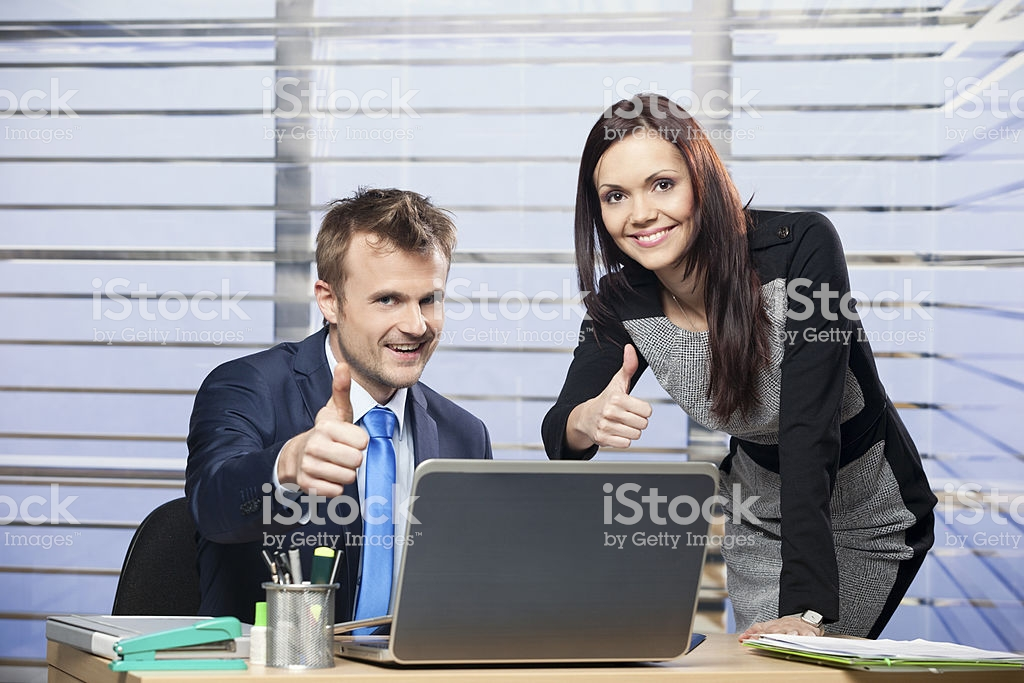thumbsup: (295, 362, 371, 500), (588, 342, 653, 454)
